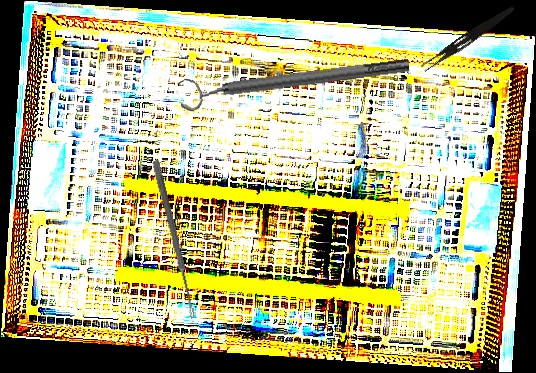Dressing Forceps: (420, 1, 516, 76)
Fixation Ring: (177, 49, 412, 113)
Surgical Spoon: (150, 159, 199, 321)
